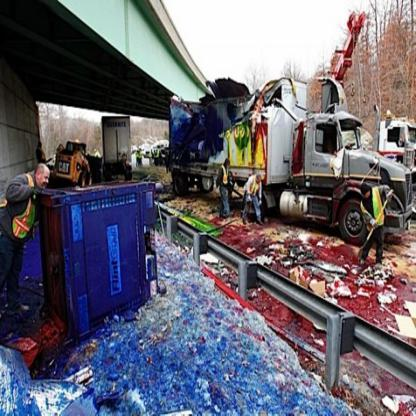face: (39, 169, 50, 190), (365, 193, 371, 198), (258, 178, 261, 183), (227, 165, 230, 169)
